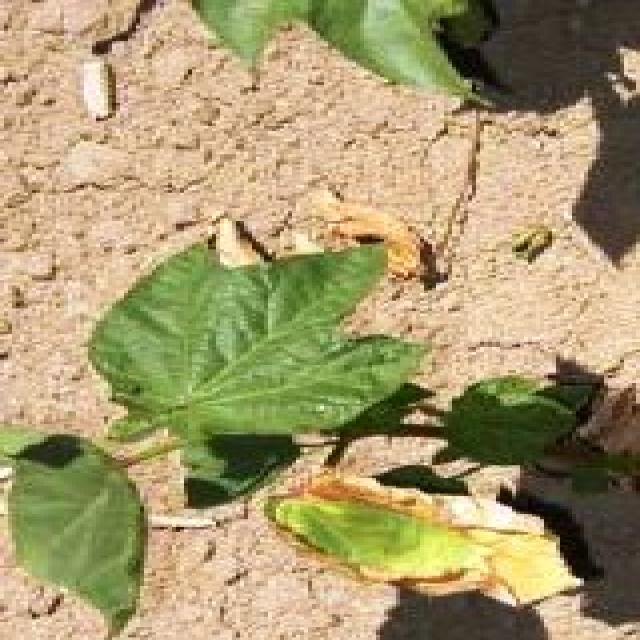Fusarium Wilt: (98, 238, 605, 604)
